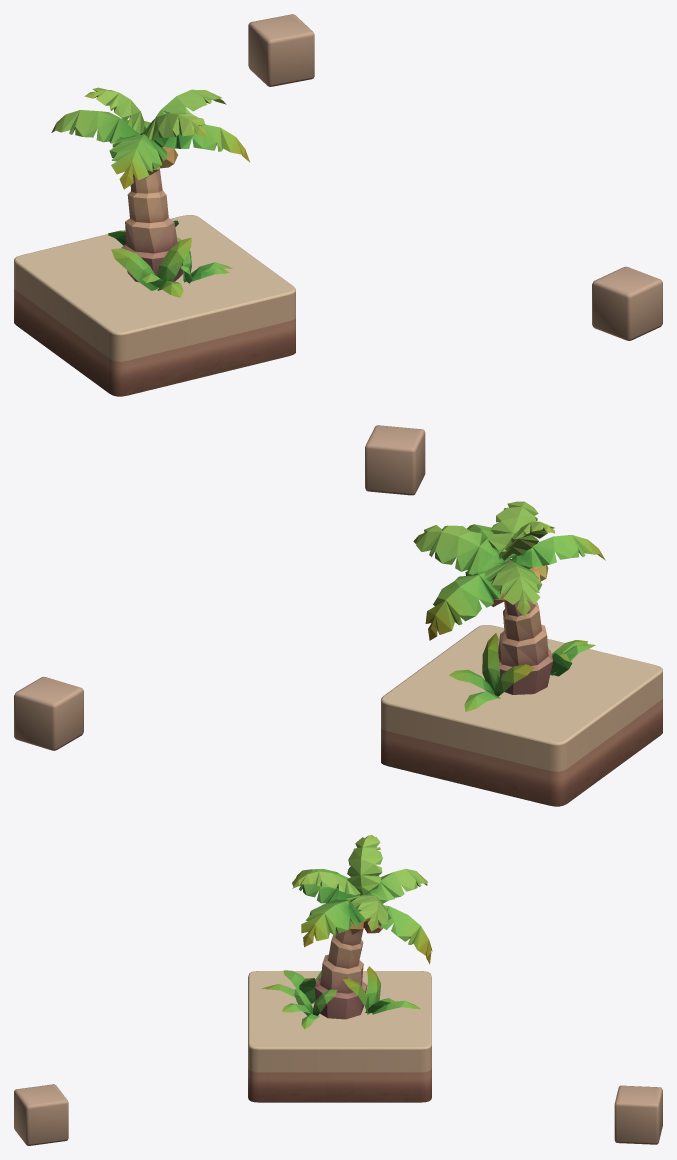
Rendered from Props.fbx.
3 views of the same model, one above another, from view 1: azimuth 30°, elevation 25°; view 2: azimuth 150°, elevation 25°; view 3: azimuth 270°, elevation 25° (orthographic). The views are drawn at different scales.
Visible parts, largest first — view 1: Box02, yezishu02, Box1-6 (2), Box1-6 (1); view 2: Box02, yezishu02, Box1-6 (1), Box1-6 (2); view 3: Box02, yezishu02, Box1-6 (2), Box1-6 (1).
Part boxes in pixels (box(x1,y1,x2,y2)): Box02: box(14, 215, 295, 396); yezishu02: box(51, 87, 249, 297); Box1-6 (2): box(592, 266, 662, 340); Box1-6 (1): box(248, 14, 314, 86); Box02: box(381, 625, 662, 806); yezishu02: box(413, 501, 605, 711); Box1-6 (1): box(14, 676, 83, 750); Box1-6 (2): box(365, 425, 425, 495); Box02: box(248, 971, 431, 1102); yezishu02: box(261, 835, 432, 1029); Box1-6 (2): box(14, 1084, 68, 1145); Box1-6 (1): box(614, 1085, 662, 1144).
Bounding box in the file's own units: 18.19 × 10.12 × 28.24.
